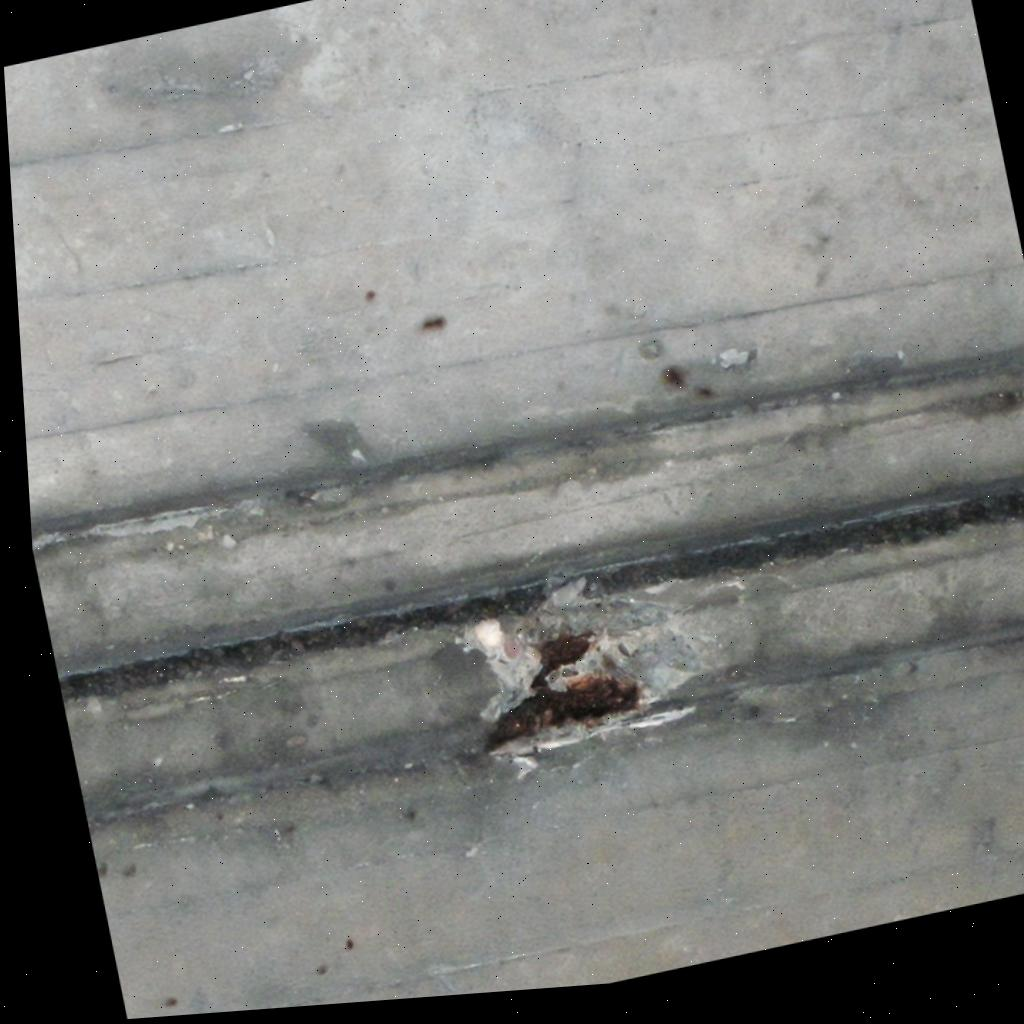exposed_rebar: (488, 634, 641, 749)
spalling: (459, 578, 717, 749)
